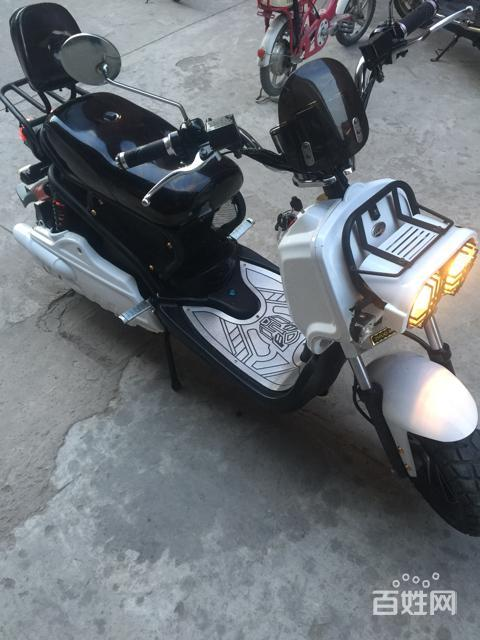电动车: (3, 5, 480, 548)
